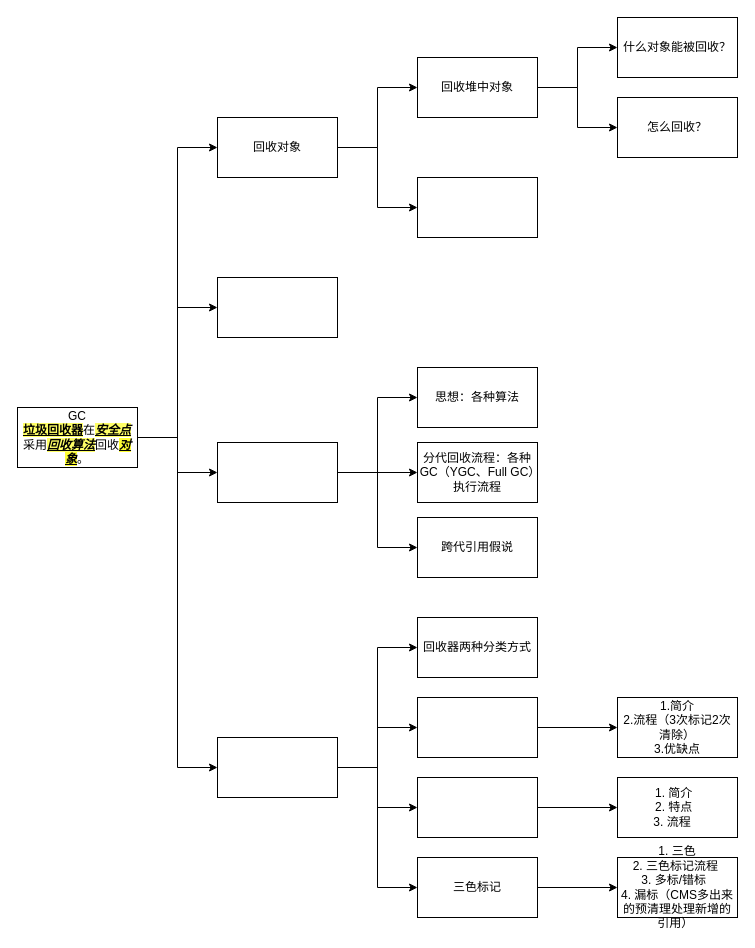
This 755x948 diagram has some shape labels left out. Here are the shapes that lost their labels. From the top down, the box of each, then its label:
(416, 176, 538, 238): 回收方法区（类和常量）/类的卸载阶段
(216, 276, 338, 338): 安全点/安全区域
(216, 442, 338, 502): 回收算法/流程
(416, 696, 538, 758): CMS回收器
(216, 736, 338, 798): 回收器
(416, 776, 538, 838): G1回收器
